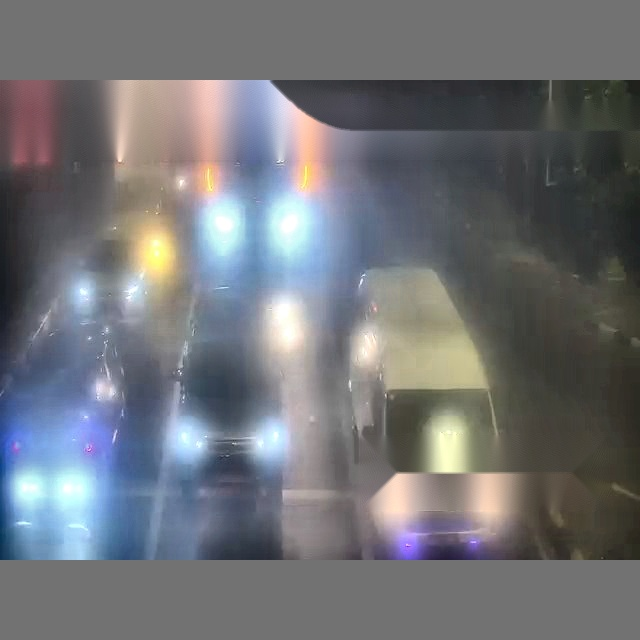Mobil: (170, 292, 292, 553)
Motor: (133, 216, 172, 297), (269, 291, 305, 374)
